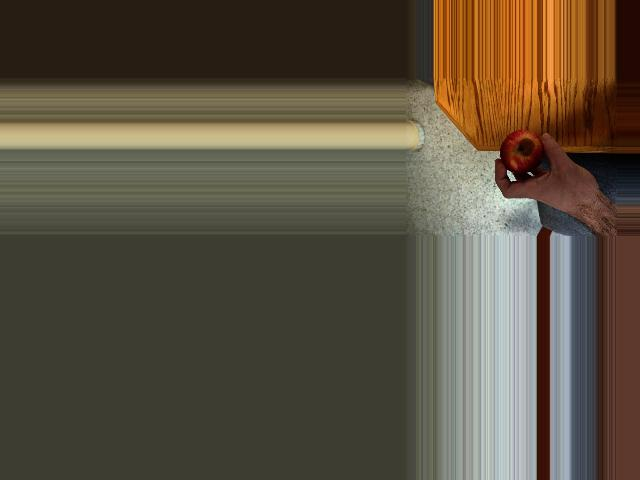apple: (499, 129, 546, 170)
